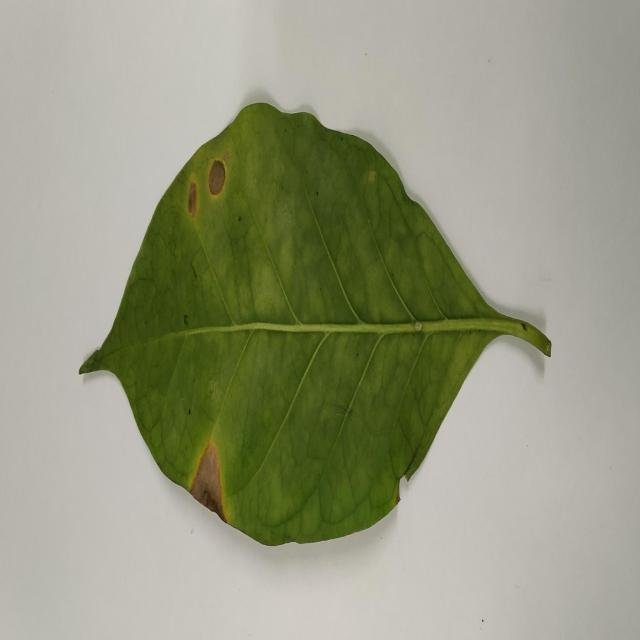Enfermedad-Mancha-de-hierro: (79, 102, 552, 549)
